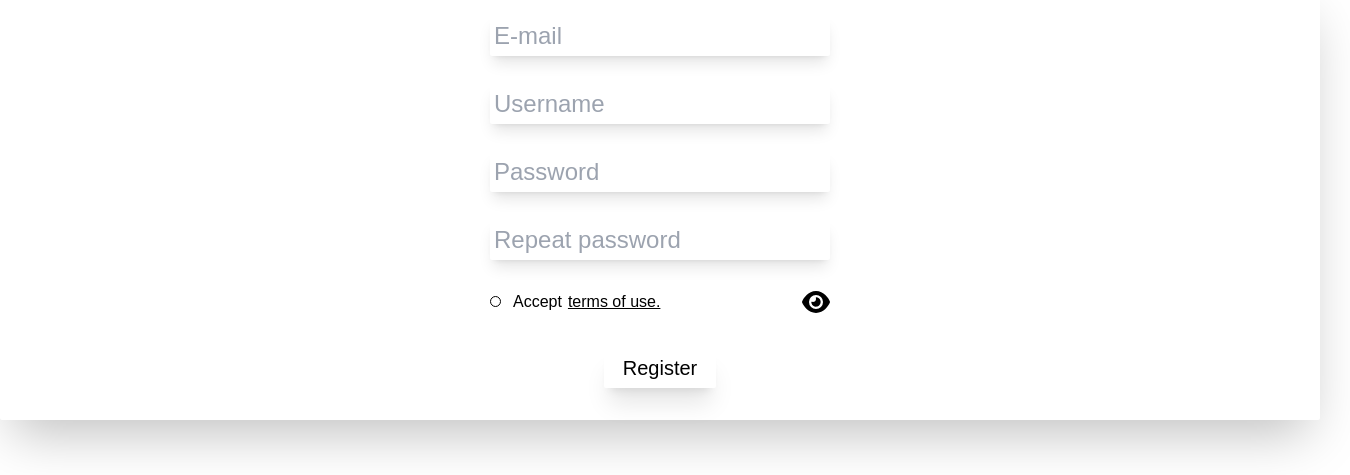
Test: RegisterForm › should show error if email is invalid
The width and height of the screenshot is (1350, 475).
Type "invalidEmail" into the field with placeholder "E-mail" at (660, 36), box [490,16,830,56]
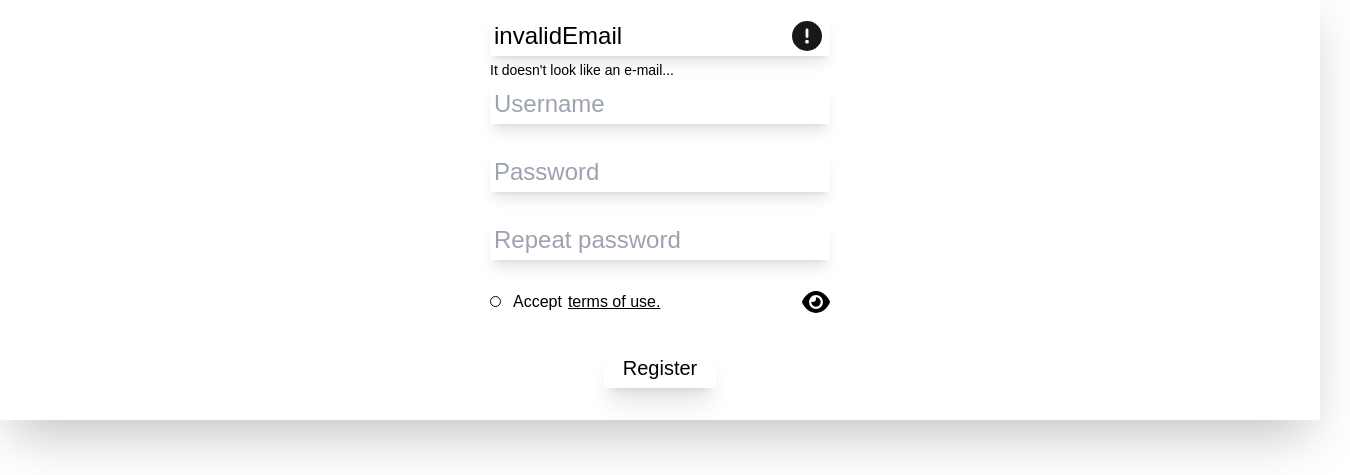
expect the text "It doesn't look like an e-mail..." is shown: met, box [490,60,674,80]
